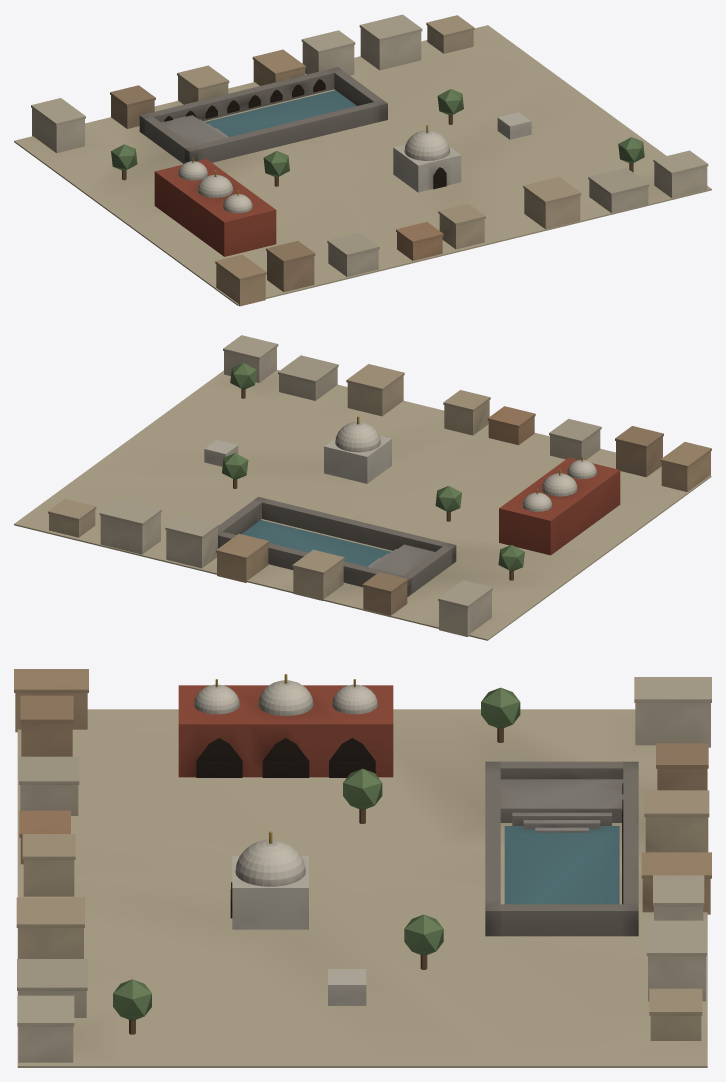
Rendered from nizamuddin-early.glb.
3 renders of one model, top to bottom at view 1: azimuth 30°, elevation 25°; view 2: azimuth 150°, elevation 25°; view 3: azimuth 270°, elevation 25°, orthographic. The views are drawn at different scales.
Visible parts, largest first — view 1: p0_court, p1_mosque, p2_tomb, p3_domes; view 2: p0_court, p1_mosque, p2_tomb, p3_domes; view 3: p0_court, p1_mosque, p2_tomb, p3_domes.
Part boxes in pixels (<box>): p0_court: <box>14,14,711,306</box>; p1_mosque: <box>154,159,276,256</box>; p2_tomb: <box>111,89,644,192</box>; p3_domes: <box>178,125,449,213</box>; p0_court: <box>14,335,711,640</box>; p1_mosque: <box>499,457,620,555</box>; p2_tomb: <box>204,363,524,580</box>; p3_domes: <box>335,416,596,511</box>; p0_court: <box>14,669,711,1067</box>; p1_mosque: <box>178,685,393,777</box>; p2_tomb: <box>113,687,520,1034</box>; p3_domes: <box>194,674,377,886</box>.
Size of the model in its own units: 110 by 12.36 by 91.01.
